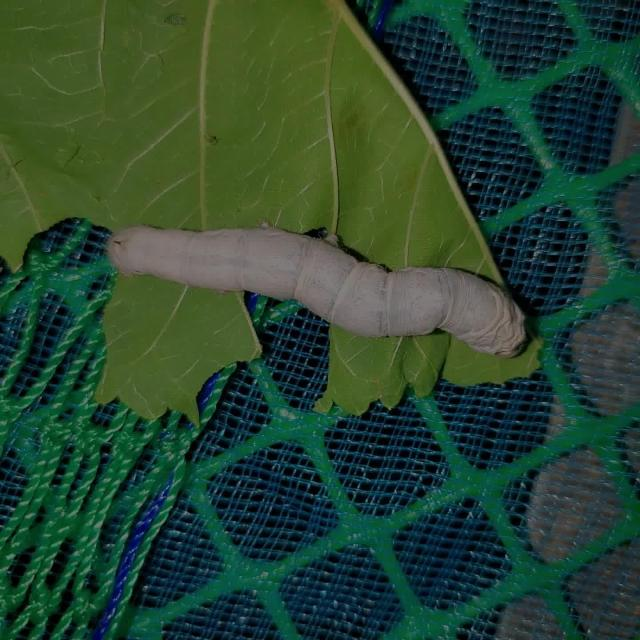Healthy: (101, 206, 536, 376)
